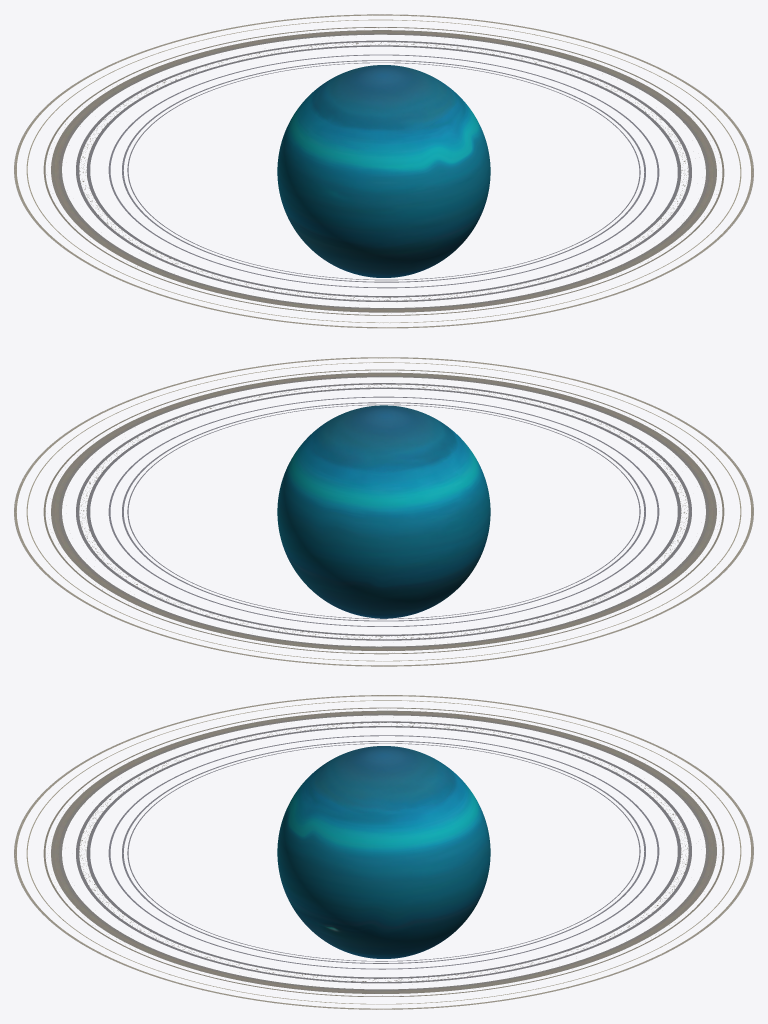
Rendered from uranus.glb.
3 renders of one model, top to bottom at view 1: azimuth 30°, elevation 25°; view 2: azimuth 150°, elevation 25°; view 3: azimuth 270°, elevation 25°, orthographic.
Visible parts, largest first — view 1: core, ring_0; view 2: core, ring_0; view 3: core, ring_0.
Boxes of the visible parts, bbox=[...] form: core: bbox=[277, 65, 490, 277]; ring_0: bbox=[14, 14, 753, 328]; core: bbox=[277, 405, 490, 618]; ring_0: bbox=[14, 357, 753, 666]; core: bbox=[277, 746, 490, 958]; ring_0: bbox=[14, 695, 753, 1009].
Bounding box in the file's own units: 6.94 × 2 × 6.94.
3 materials, 3 textured.
